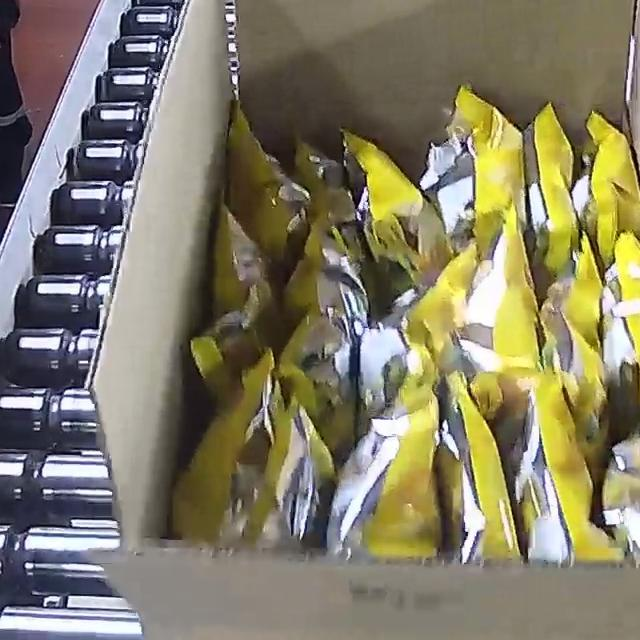salted: (167, 80, 640, 566)
